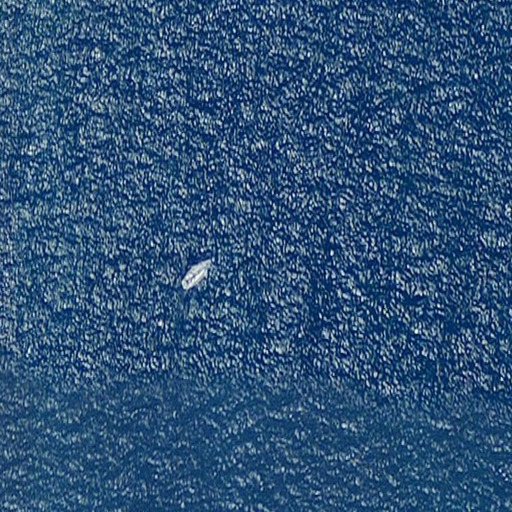ship: (181, 257, 210, 291)
